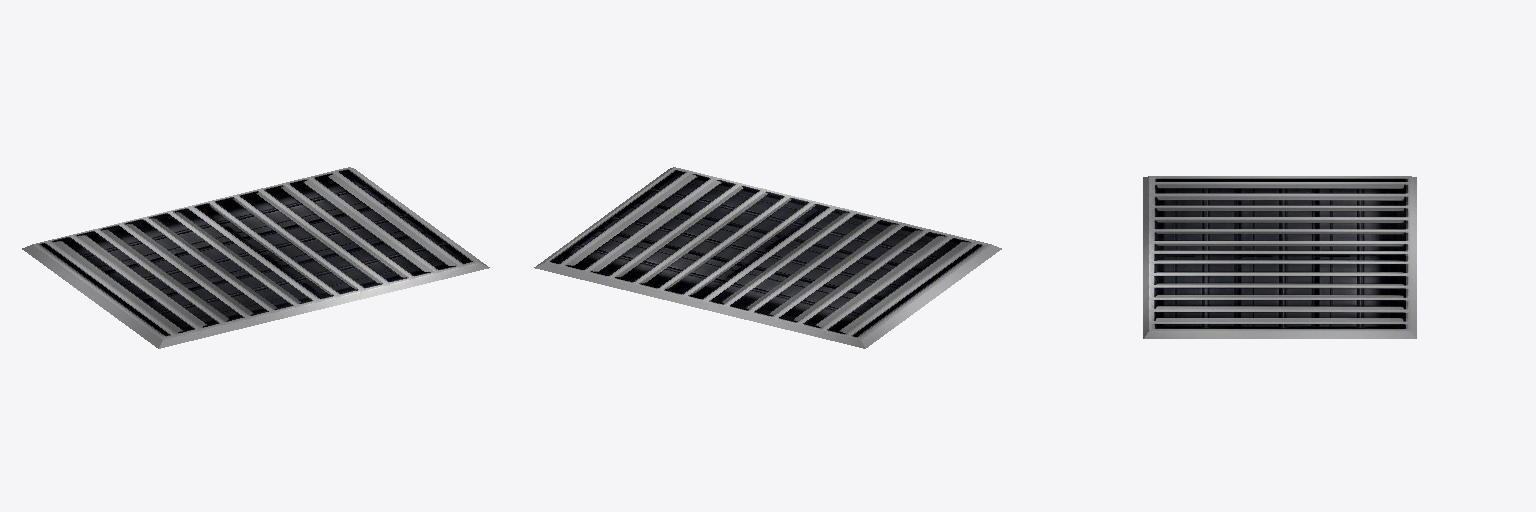
3 renders of one model, left to right at view 1: azimuth 30°, elevation 25°; view 2: azimuth 150°, elevation 25°; view 3: azimuth 270°, elevation 25°, orthographic.
Visible parts, largest first — view 1: vent_1; view 2: vent_1; view 3: vent_1.
Part boxes in pixels (left/top/right/bottom): vent_1: left=22, top=167, right=489, bottom=348; vent_1: left=534, top=167, right=1001, bottom=348; vent_1: left=1143, top=176, right=1416, bottom=338.
Size of the model in its own units: 0.35 by 0.0049 by 0.25.
Materials: 1 (1 with a texture image).